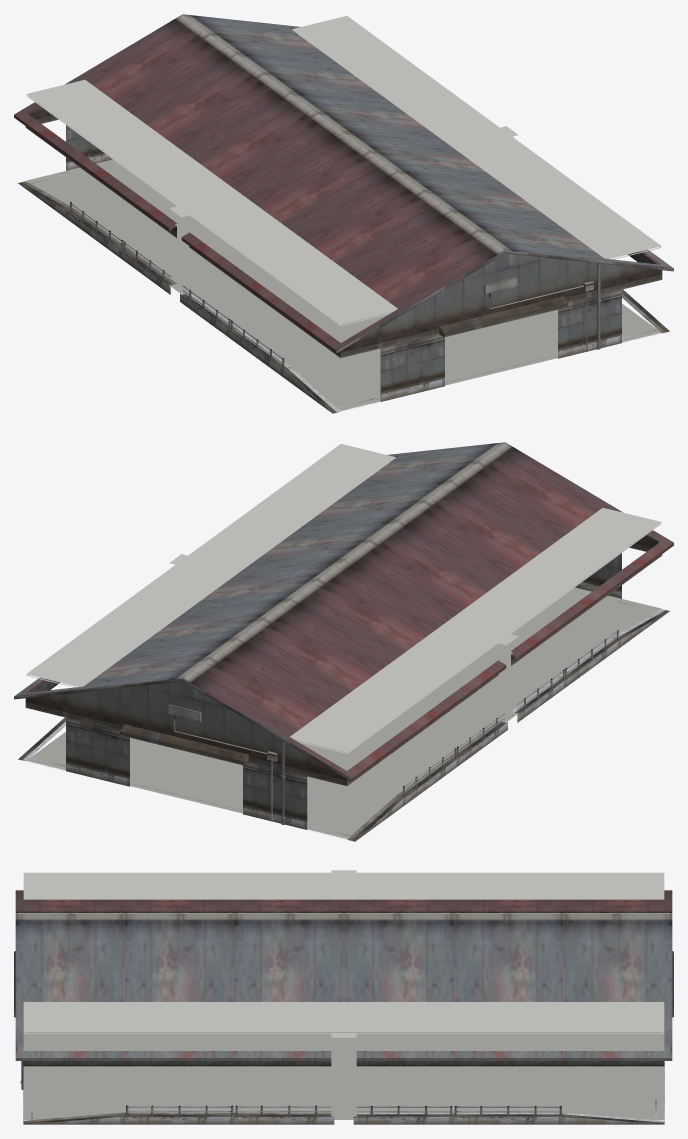
The model's file is ind-warehouse-5.access-v9.lod1.glb.
3 views of the same model, one above another, from view 1: azimuth 30°, elevation 25°; view 2: azimuth 150°, elevation 25°; view 3: azimuth 270°, elevation 25° (orthographic).
Parts seen in each view (by area): view 1: Industrial_Warehouse_5_Industrial_Walls_FLR_1_0, Walkable floors and stairs (×2), Industrial_Warehouse_5_Material #140_0; view 2: Industrial_Warehouse_5_Industrial_Walls_FLR_1_0, Walkable floors and stairs (×2), Industrial_Warehouse_5_Material #140_0; view 3: Walkable floors and stairs (×2), Industrial_Warehouse_5_Industrial_Walls_FLR_1_0, Industrial_Warehouse_5_Material #140_0.
Boxes of the visible parts, x1,y1,x2,y2 form: Industrial_Warehouse_5_Industrial_Walls_FLR_1_0: [14, 14, 673, 393]; Walkable floors and stairs (×2): [26, 16, 661, 410]; Industrial_Warehouse_5_Material #140_0: [18, 153, 669, 413]; Industrial_Warehouse_5_Industrial_Walls_FLR_1_0: [14, 442, 673, 824]; Walkable floors and stairs (×2): [26, 444, 661, 838]; Industrial_Warehouse_5_Material #140_0: [18, 581, 669, 841]; Walkable floors and stairs (×2): [23, 870, 664, 1119]; Industrial_Warehouse_5_Industrial_Walls_FLR_1_0: [14, 890, 673, 1116]; Industrial_Warehouse_5_Material #140_0: [23, 1093, 664, 1124].
Bounding box in the file's own units: 33 × 11.68 × 54.94.
Materials: 4 (2 with a texture image).
